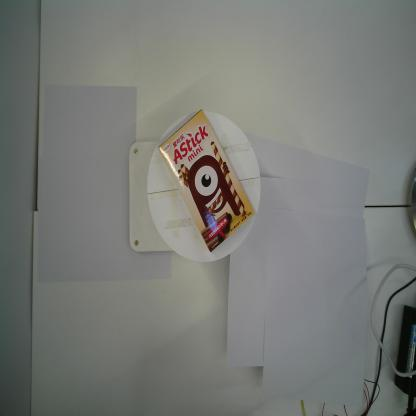Dessert: (157, 109, 257, 253)
